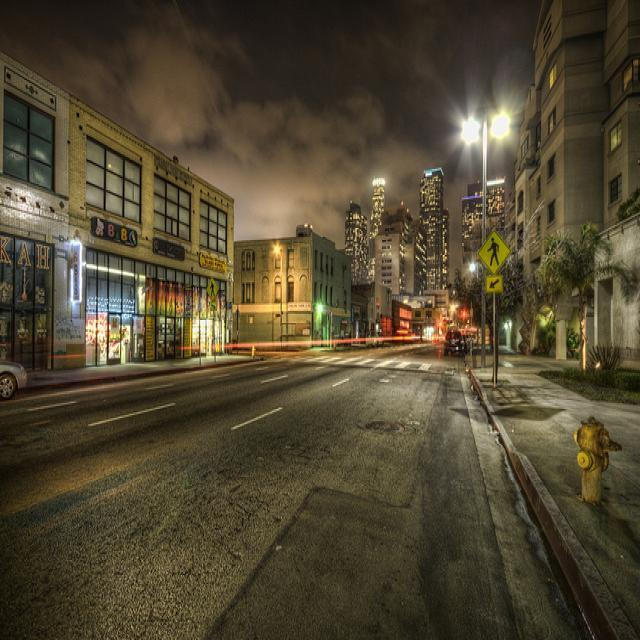fire_hydrant: (574, 418, 622, 503), (250, 344, 256, 358)
